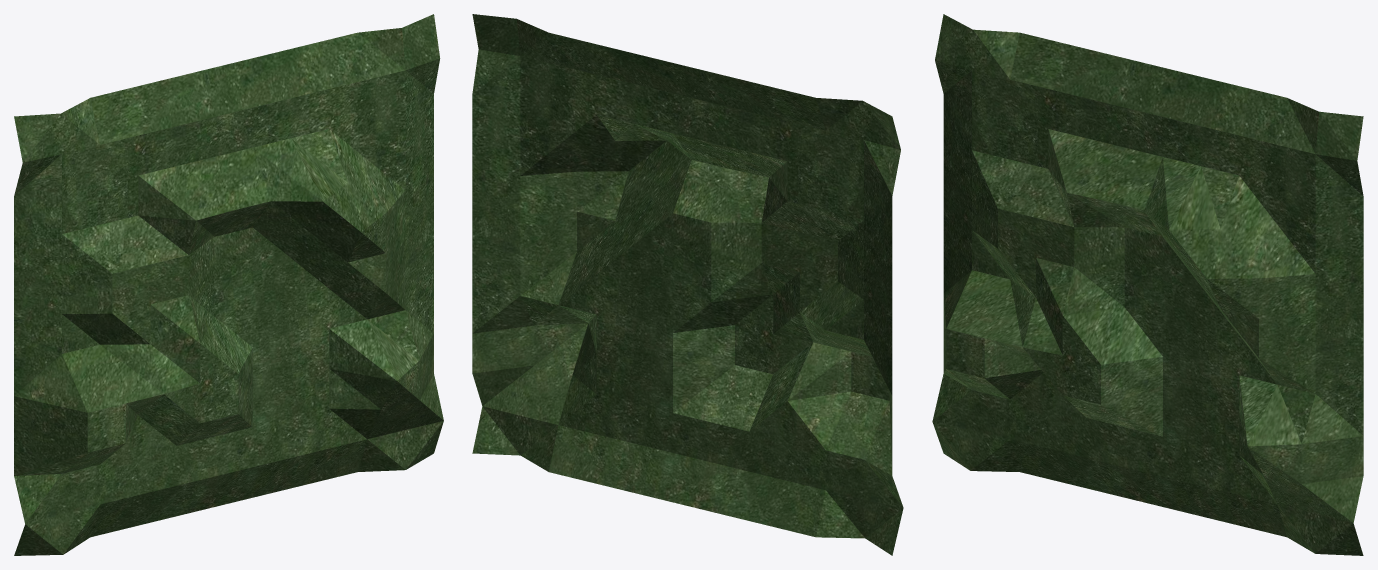
The model's file is PseudoTerrain.dae.
The picture shows the model from 3 angles, left to right: view 1: azimuth 30°, elevation 25°; view 2: azimuth 150°, elevation 25°; view 3: azimuth 330°, elevation 25°; orthographic projection.
Parts seen in each view (by area): view 1: Cube_001; view 2: Cube_001; view 3: Cube_001.
Part boxes in pixels (left/top/right/bottom): Cube_001: left=14, top=14, right=443, bottom=555; Cube_001: left=472, top=14, right=903, bottom=555; Cube_001: left=932, top=14, right=1363, bottom=555.
Bounding box in the file's own units: 209 × 36.07 × 209.
1 material, 1 textured.
